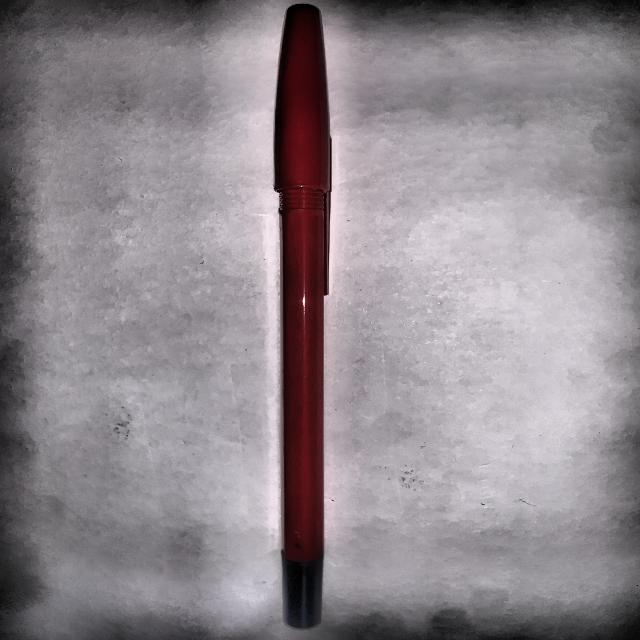Pulpen: (259, 1, 354, 638)
